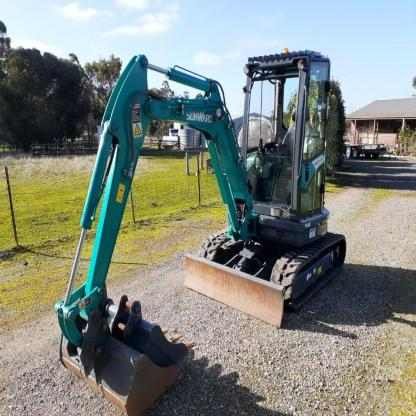excavator: (36, 28, 371, 408)
